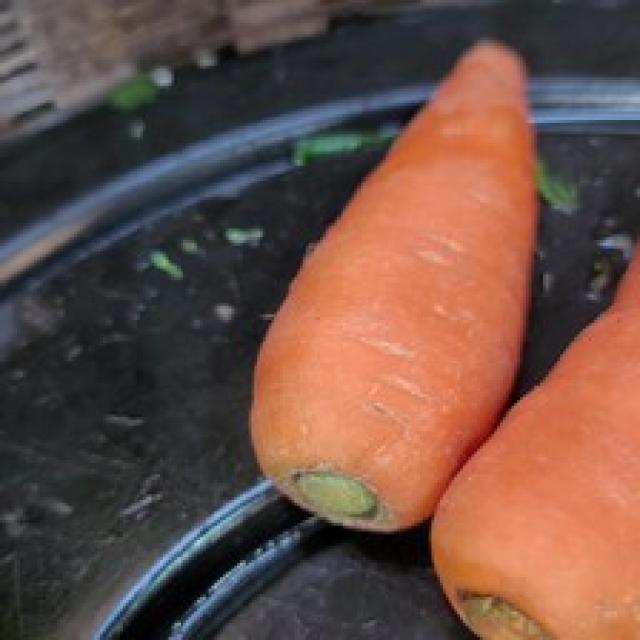carrot: (223, 27, 553, 538), (428, 222, 638, 640)
